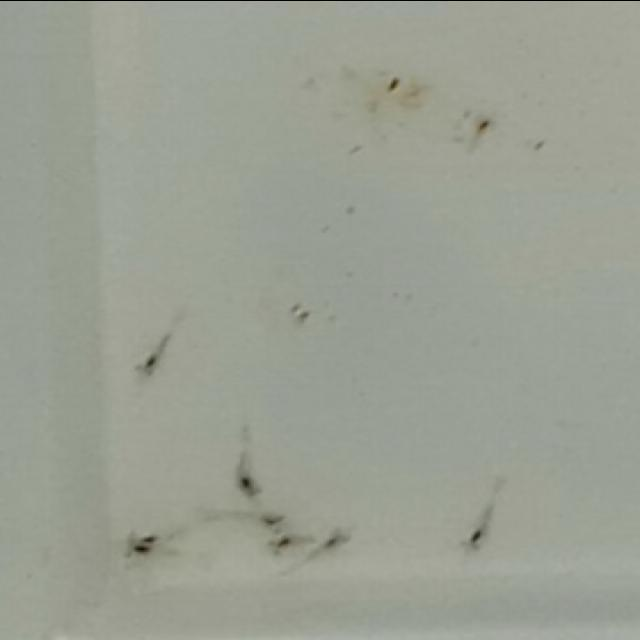shrimp-seed: (128, 344, 167, 384), (228, 472, 266, 500), (318, 525, 356, 552), (456, 520, 486, 554), (262, 534, 292, 556), (130, 529, 160, 549), (252, 511, 286, 528), (124, 541, 152, 561)
